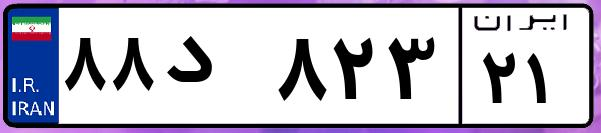1: (525, 38, 570, 115)
2: (330, 28, 385, 110), (475, 38, 525, 113)
3: (385, 28, 445, 110)
8: (270, 28, 330, 110), (57, 26, 110, 100), (110, 28, 158, 98)
د: (158, 20, 270, 120)
